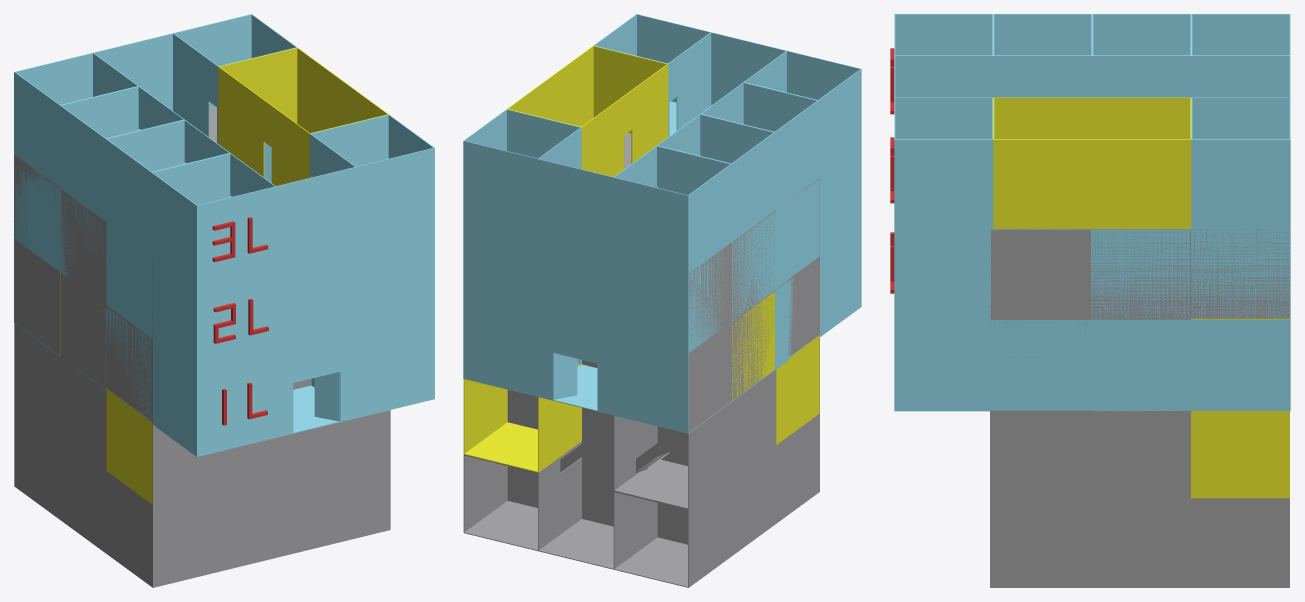
Rendered from 第六组.glb.
The picture shows the model from 3 angles, left to right: view 1: azimuth 30°, elevation 25°; view 2: azimuth 150°, elevation 25°; view 3: azimuth 270°, elevation 25°; orthographic projection. The views are drawn at different scales.
Size of the model in its own units: 0.015 by 0.0252 by 0.0202.
